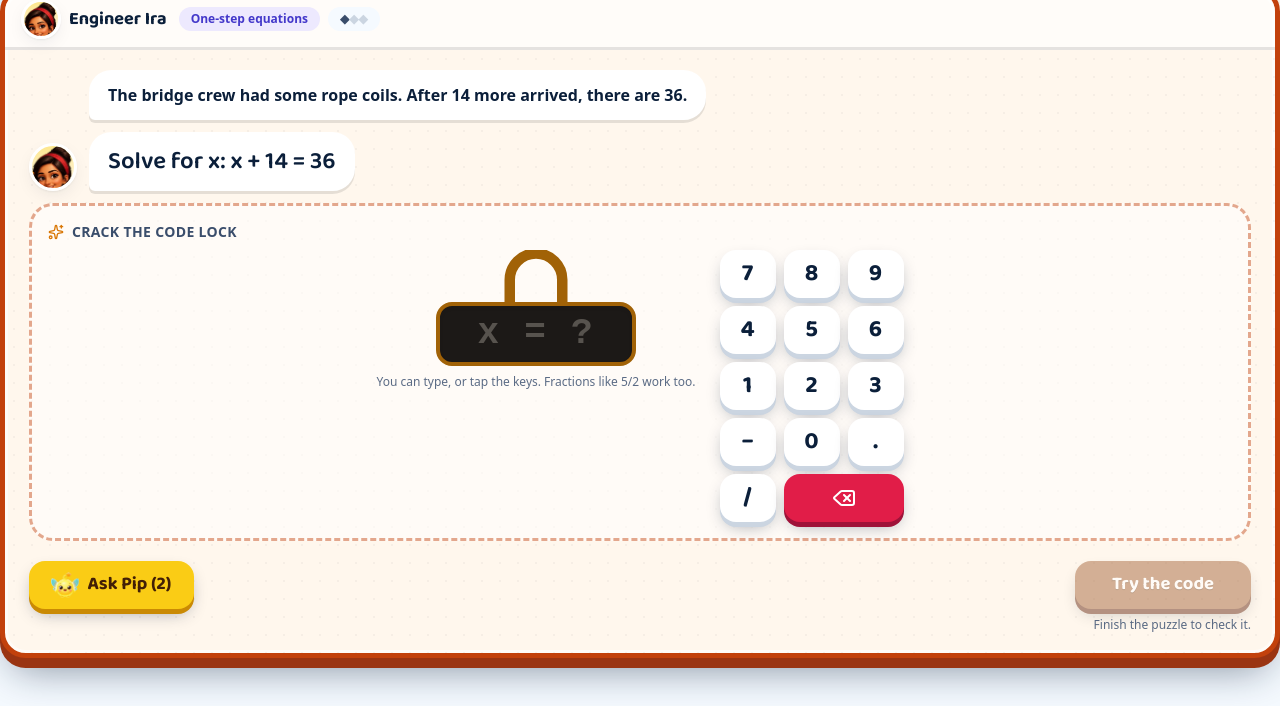
Test: ChallengePanel › shows meaningful feedback, the correct answer and the explanation for a wrong answer
In the field: (536, 334) [456, 314, 616, 354], type "9"
Then press Enter
(page scrolled)
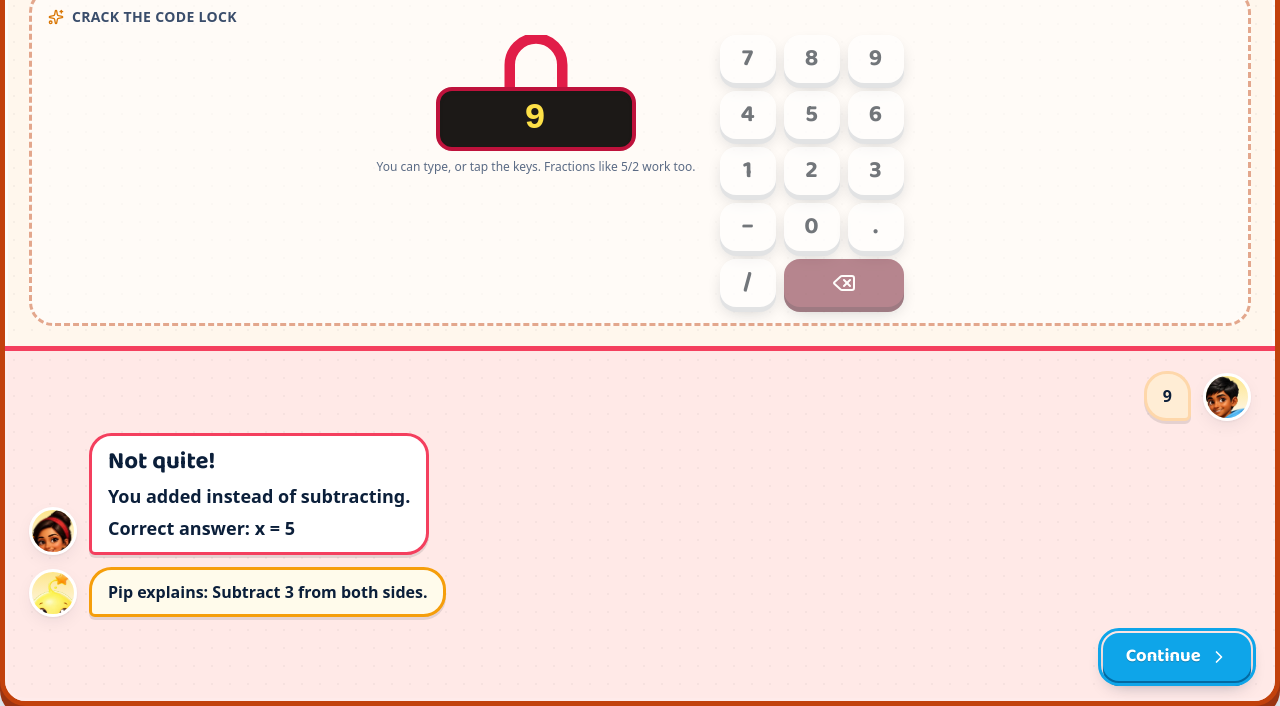
Check: the text "Not quite!" is shown, box [108, 446, 216, 478]
Check: the text "You added instead of subtracting." is shown, box [108, 482, 410, 510]
Check: the text "Correct answer: x = 5" is shown, box [108, 516, 295, 540]
